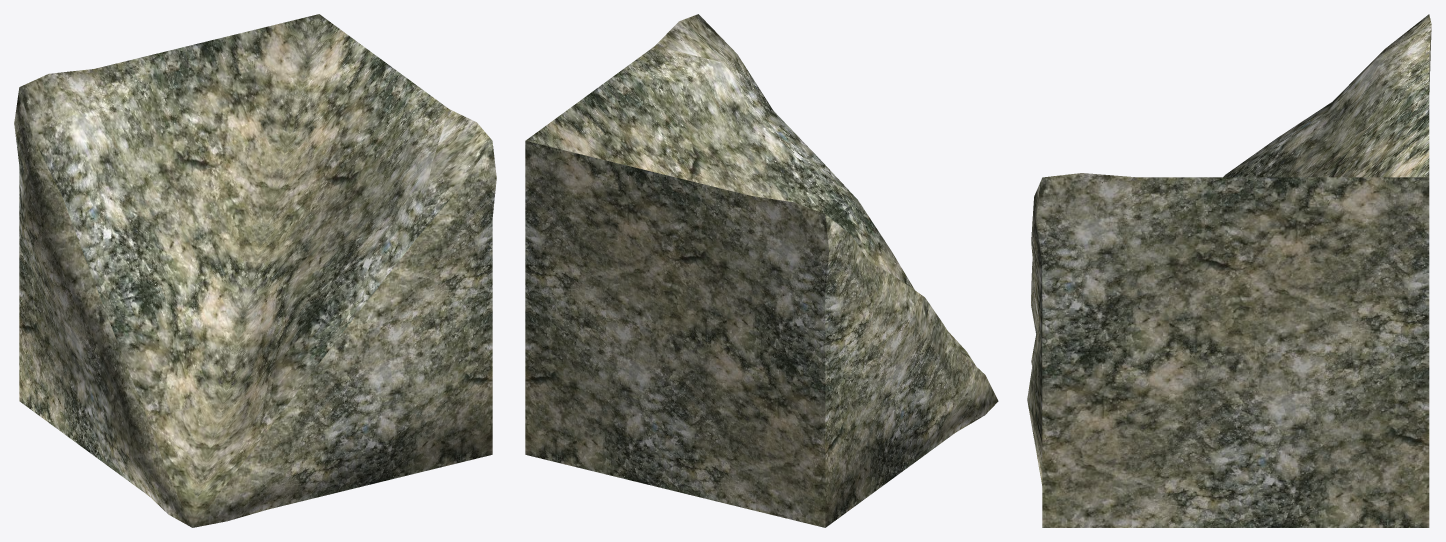
File: rockcorner.obj
3 renders of one model, left to right at view 1: azimuth 30°, elevation 25°; view 2: azimuth 150°, elevation 25°; view 3: azimuth 270°, elevation 25°, orthographic. The views are drawn at different scales.
Parts seen in each view (by area): view 1: Cube; view 2: Cube; view 3: Cube.
Part boxes in pixels (x1=…): Cube: x1=14, y1=14, x2=496, y2=527; Cube: x1=525, y1=14, x2=998, y2=527; Cube: x1=1027, y1=14, x2=1431, y2=527.
Size of the model in its own units: 2.12 by 2.03 by 2.09.
